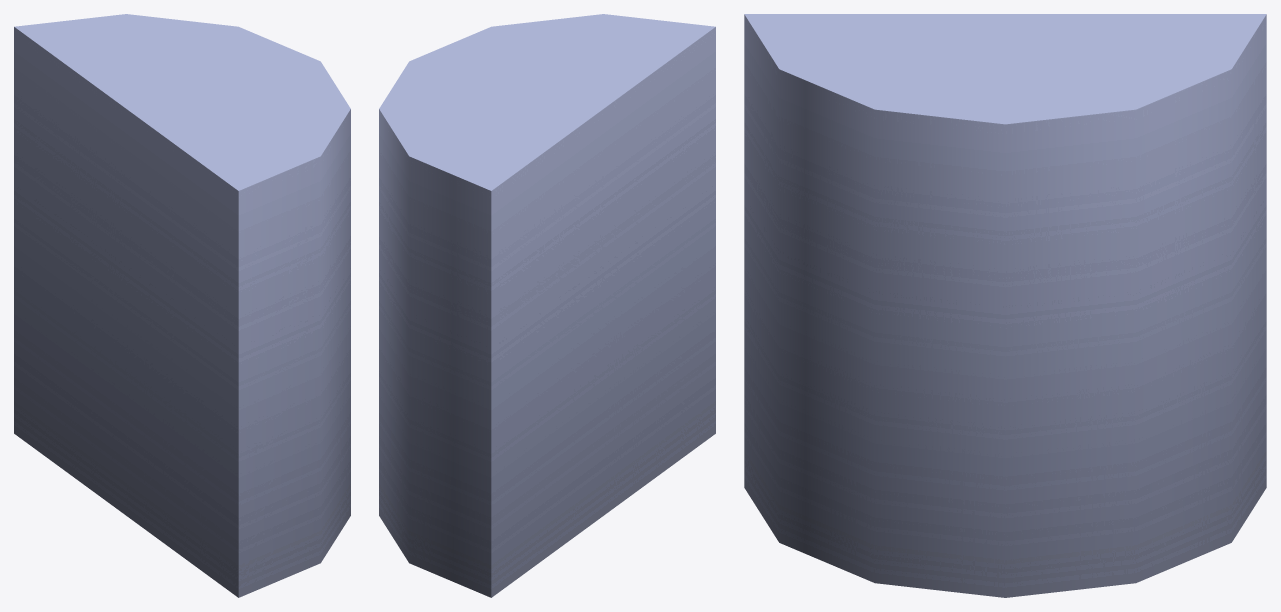
Rendered from shape-cylinder-half.glb.
3 views of the same model, side by side, from view 1: azimuth 30°, elevation 25°; view 2: azimuth 150°, elevation 25°; view 3: azimuth 270°, elevation 25° (orthographic). The views are drawn at different scales.
Parts seen in each view (by area): view 1: shape-cylinder-half; view 2: shape-cylinder-half; view 3: shape-cylinder-half.
Part boxes in pixels (<box>): shape-cylinder-half: <box>14,14,350,597</box>; shape-cylinder-half: <box>379,14,715,597</box>; shape-cylinder-half: <box>744,14,1266,597</box>.
Size of the model in its own units: 0.5 by 1 by 1.
1 material, 1 textured.
